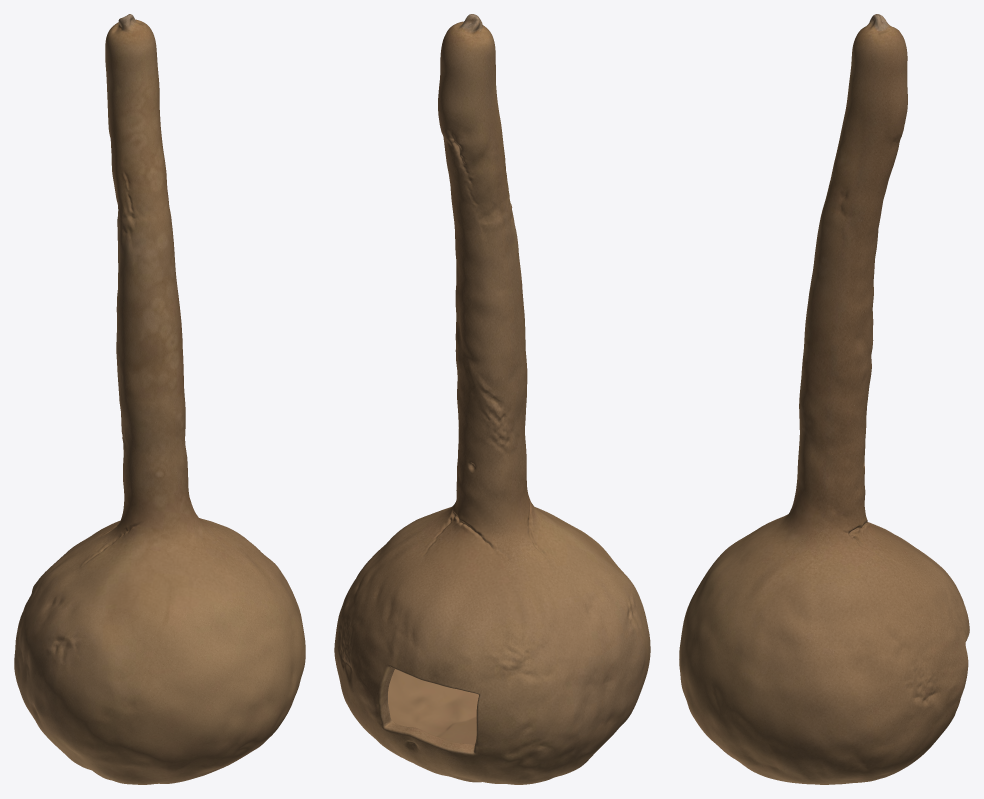
File: tikva.glb
3 views of the same model, side by side, from view 1: azimuth 30°, elevation 25°; view 2: azimuth 150°, elevation 25°; view 3: azimuth 270°, elevation 25° (orthographic). The views are drawn at different scales.
Bounding box in the file's own units: 0.7141 × 1.9 × 0.678.
1 material, 1 textured.
